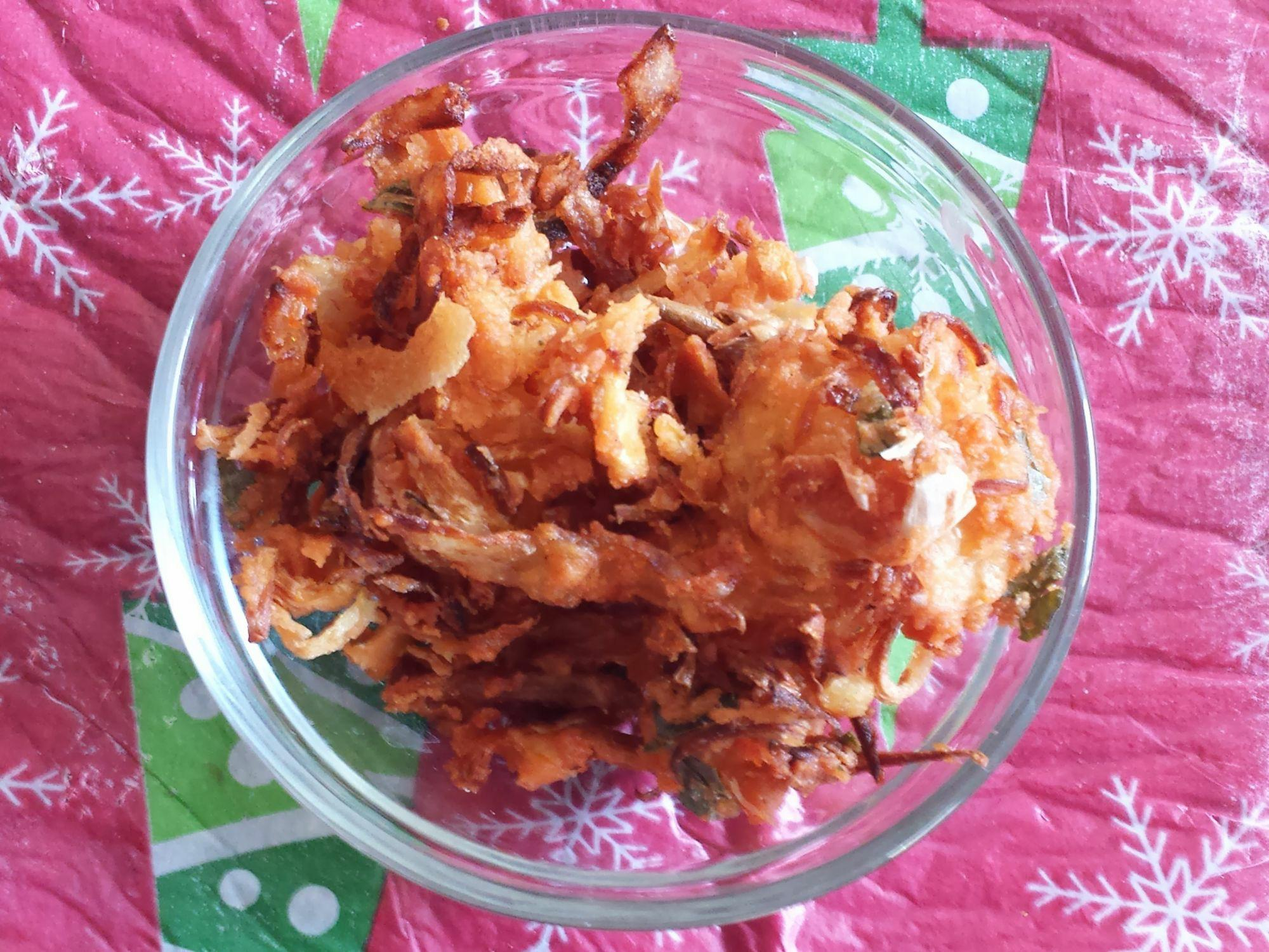OnionPakoda: (193, 24, 1069, 844)
